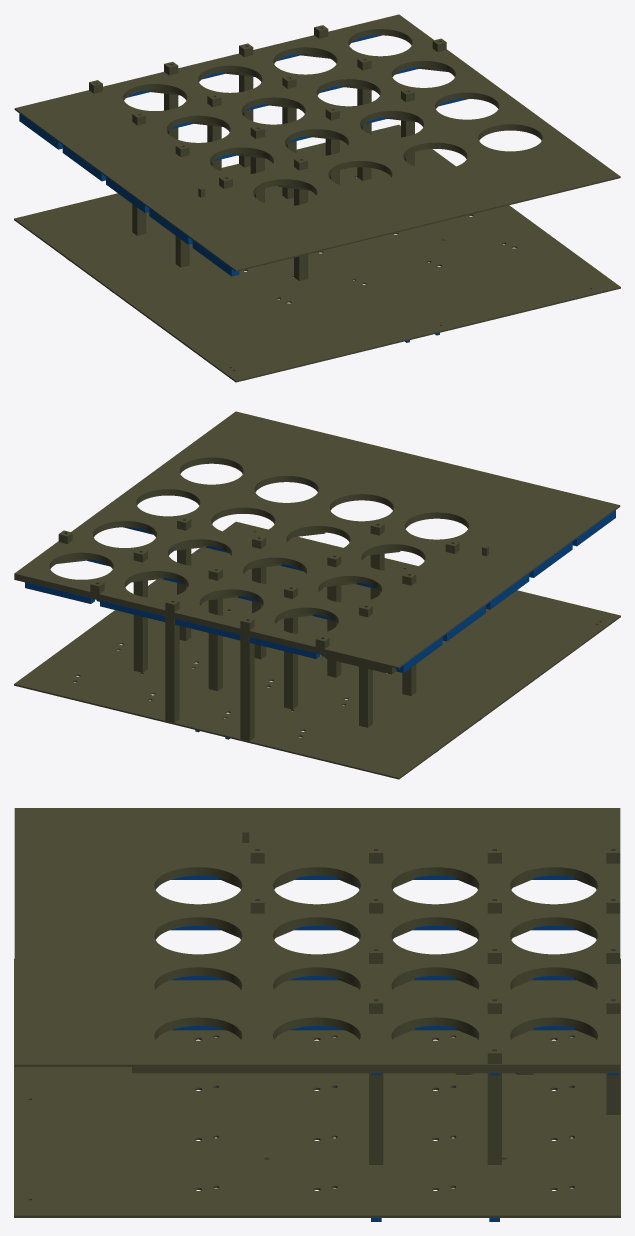
Rendered from GCC-AAV-13220-30(10).fbx.
3 renders of one model, top to bottom at view 1: azimuth 30°, elevation 25°; view 2: azimuth 150°, elevation 25°; view 3: azimuth 270°, elevation 25°, orthographic. The views are drawn at different scales.
Parts seen in each view (by area): view 1: PANEL 1 of SBFRAMEWORK /13220-ST-001/CI/KJ2/FL/FL_001, PANEL 1 of SBFRAMEWORK /13220-ST-001/CI/KJ2/FL/FL_002, PANEL 1 of SBFRAMEWORK /13220-ST-001/CI/KJ2/FL/FL_005, POHEDRON 1 of TMPLATE 1 of FIXING 1 of PLDATUM 1 of JLDATUM , PANEL 1 of SBFRAMEWORK /13220-ST-001/CI/KJ2/K/K_062, PANEL 1 of SBFRAMEWORK /13220-ST-001/CI/KJ2/K/K_275; view 2: PANEL 1 of SBFRAMEWORK /13220-ST-001/CI/KJ2/FL/FL_001, PANEL 1 of SBFRAMEWORK /13220-ST-001/CI/KJ2/FL/FL_002, PANEL 1 of SBFRAMEWORK /13220-ST-001/CI/KJ2/FL/FL_005, POHEDRON 1 of TMPLATE 1 of FIXING 1 of PLDATUM 1 of JLDATUM  (×2), PANEL 1 of SBFRAMEWORK /13220-ST-001/CI/KJ2/K/K_126, PANEL 1 of SBFRAMEWORK /13220-ST-001/CI/KJ2/K/K_034, PANEL 1 of SBFRAMEWORK /13220-ST-001/CI/KJ2/K/K_275, PANEL 1 of SBFRAMEWORK /13220-ST-001/CI/KJ2/K/K_272, PANEL 1 of SBFRAMEWORK /13220-ST-001/CI/KJ2/K/K_317, PANEL 1 of SBFRAMEWORK /13220-ST-001/CI/KJ2/K/K_043, PANEL 1 of SBFRAMEWORK /13220-ST-001/CI/KJ2/K/K_277, PANEL 1 of SBFRAMEWORK /13220-ST-001/CI/KJ2/B/B_216; view 3: PANEL 1 of SBFRAMEWORK /13220-ST-001/CI/KJ2/FL/FL_001, PANEL 1 of SBFRAMEWORK /13220-ST-001/CI/KJ2/FL/FL_002, PANEL 1 of SBFRAMEWORK /13220-ST-001/CI/KJ2/FL/FL_005, POHEDRON 1 of TMPLATE 1 of FIXING 1 of PLDATUM 1 of JLDATUM  (×4), PANEL 1 of SBFRAMEWORK /13220-ST-001/CI/KJ2/K/K_137, PANEL 1 of SBFRAMEWORK /13220-ST-001/CI/KJ2/K/K_275, PANEL 1 of SBFRAMEWORK /13220-ST-001/CI/KJ2/K/K_126.
Part boxes in pixels (x1,y1,x2,y2): PANEL 1 of SBFRAMEWORK /13220-ST-001/CI/KJ2/FL/FL_001: (14,124,620,382); PANEL 1 of SBFRAMEWORK /13220-ST-001/CI/KJ2/FL/FL_002: (94,14,577,220); PANEL 1 of SBFRAMEWORK /13220-ST-001/CI/KJ2/FL/FL_005: (14,90,620,271); POHEDRON 1 of TMPLATE 1 of FIXING 1 of PLDATUM 1 of JLDATUM : (19,113,239,276); PANEL 1 of SBFRAMEWORK /13220-ST-001/CI/KJ2/K/K_062: (294,188,308,280); PANEL 1 of SBFRAMEWORK /13220-ST-001/CI/KJ2/K/K_275: (357,88,371,180); PANEL 1 of SBFRAMEWORK /13220-ST-001/CI/KJ2/FL/FL_001: (14,521,620,779); PANEL 1 of SBFRAMEWORK /13220-ST-001/CI/KJ2/FL/FL_002: (14,443,502,655); PANEL 1 of SBFRAMEWORK /13220-ST-001/CI/KJ2/FL/FL_005: (193,411,620,668); POHEDRON 1 of TMPLATE 1 of FIXING 1 of PLDATUM 1 of JLDATUM  (×2): (25,510,615,673); PANEL 1 of SBFRAMEWORK /13220-ST-001/CI/KJ2/K/K_126: (165,616,179,722); PANEL 1 of SBFRAMEWORK /13220-ST-001/CI/KJ2/K/K_034: (240,635,254,741); PANEL 1 of SBFRAMEWORK /13220-ST-001/CI/KJ2/K/K_275: (133,580,147,672); PANEL 1 of SBFRAMEWORK /13220-ST-001/CI/KJ2/K/K_272: (208,599,222,691); PANEL 1 of SBFRAMEWORK /13220-ST-001/CI/KJ2/K/K_317: (284,617,297,709); PANEL 1 of SBFRAMEWORK /13220-ST-001/CI/KJ2/K/K_043: (359,666,372,727); PANEL 1 of SBFRAMEWORK /13220-ST-001/CI/KJ2/K/K_277: (327,585,341,677); PANEL 1 of SBFRAMEWORK /13220-ST-001/CI/KJ2/B/B_216: (325,651,396,674); PANEL 1 of SBFRAMEWORK /13220-ST-001/CI/KJ2/FL/FL_001: (14,958,620,1217); PANEL 1 of SBFRAMEWORK /13220-ST-001/CI/KJ2/FL/FL_002: (132,857,620,1073); PANEL 1 of SBFRAMEWORK /13220-ST-001/CI/KJ2/FL/FL_005: (14,808,620,1066); POHEDRON 1 of TMPLATE 1 of FIXING 1 of PLDATUM 1 of JLDATUM  (×4): (170,875,576,1030); PANEL 1 of SBFRAMEWORK /13220-ST-001/CI/KJ2/K/K_137: (369,1073,383,1164); PANEL 1 of SBFRAMEWORK /13220-ST-001/CI/KJ2/K/K_275: (487,1073,501,1164); PANEL 1 of SBFRAMEWORK /13220-ST-001/CI/KJ2/K/K_126: (606,1073,620,1114).
Size of the model in its own units: 2019 by 640 by 2016.
